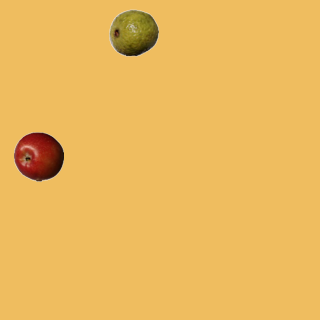Apple Braeburn: (13, 131, 63, 181)
Guava: (108, 7, 158, 57)
